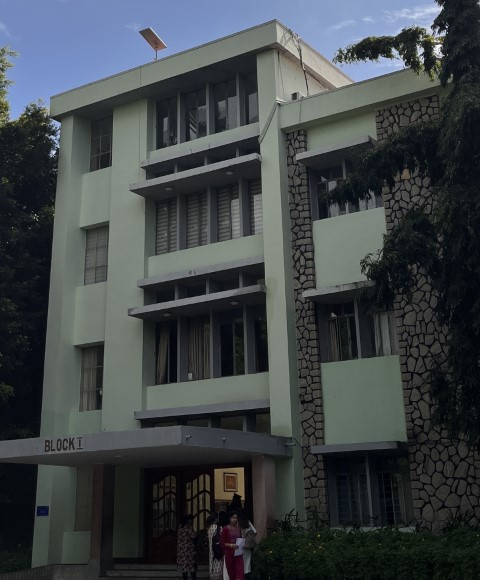Block 1: (36, 48, 480, 580)
